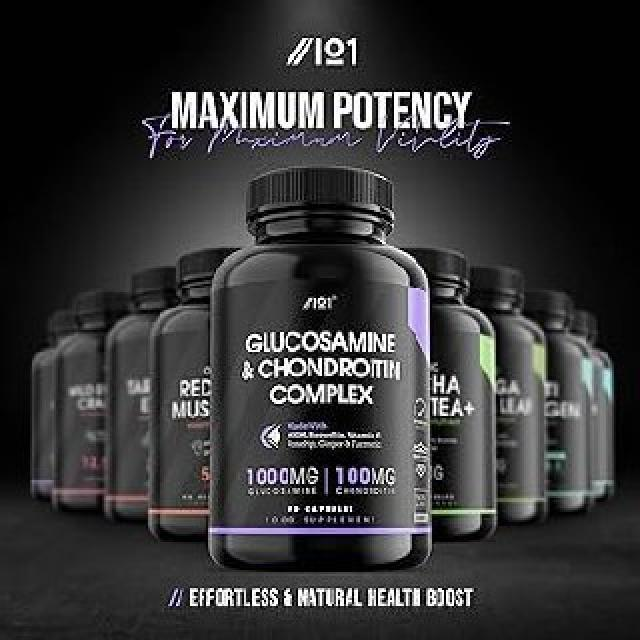food-supliment: (232, 250, 425, 553)
medicine: (433, 308, 497, 527)
